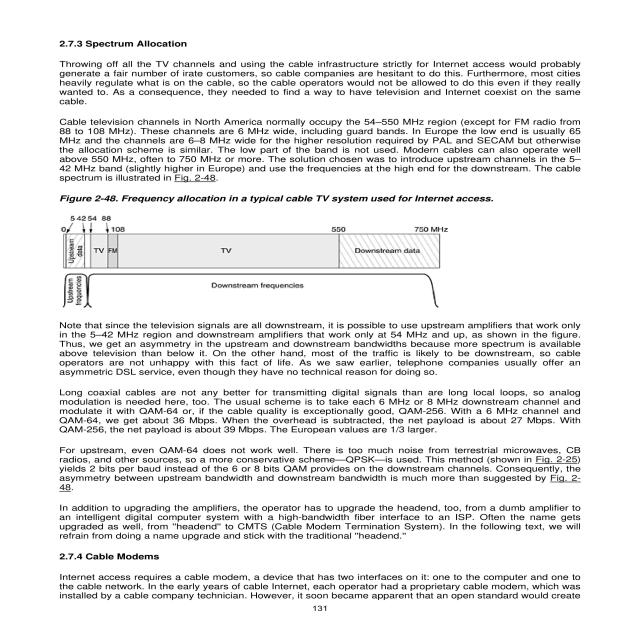diagram: (48, 188, 528, 314)
